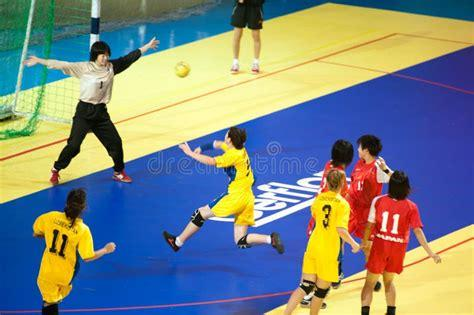ballon_handball: (172, 58, 191, 80)
